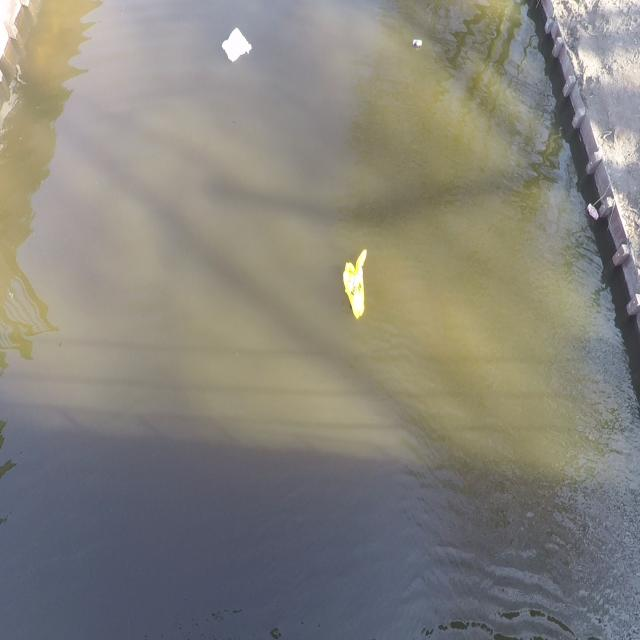Autre plastique: (216, 24, 256, 67)
Non plastique: (585, 199, 599, 230), (409, 36, 425, 52)
Sac plastique: (338, 241, 373, 331)
